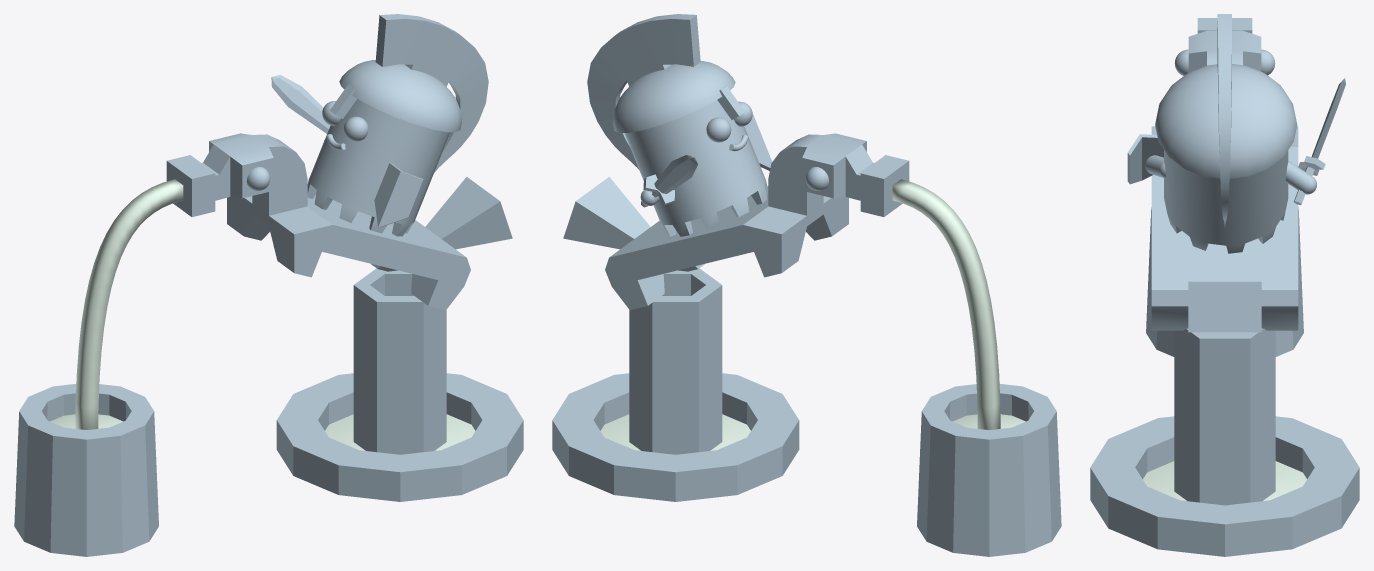
The model's file is fountain_cute.fbx.
3 renders of one model, left to right at view 1: azimuth 30°, elevation 25°; view 2: azimuth 150°, elevation 25°; view 3: azimuth 270°, elevation 25°, orthographic. The views are drawn at different scales.
Visible parts, largest first — view 1: mount, pPipe2, pPipe1, pCylinder27, gotchi3D_1, hair, pPlane35, helmet, shield, blade, pCylinder28; view 2: mount, pPipe2, pPipe1, pCylinder27, gotchi3D_1, hair, pPlane35, helmet, pCylinder28, blade, shield; view 3: pPipe1, mount, pCylinder27, helmet, gotchi3D_1, hair, pPipe2, pCylinder28, shield, arm_right, blade, sword (+1 smaller).
Boxes of the visible parts, x1=… form: mount: x1=166, y1=133, x2=512, y2=310; pPipe2: x1=14, y1=384, x2=158, y2=556; pPipe1: x1=276, y1=373, x2=523, y2=501; pCylinder27: x1=353, y1=268, x2=446, y2=454; gotchi3D_1: x1=307, y1=99, x2=450, y2=236; hair: x1=375, y1=14, x2=488, y2=172; pPlane35: x1=75, y1=179, x2=183, y2=429; helmet: x1=339, y1=60, x2=461, y2=132; shield: x1=374, y1=162, x2=424, y2=227; blade: x1=271, y1=75, x2=330, y2=133; pCylinder28: x1=325, y1=414, x2=475, y2=450; mount: x1=563, y1=133, x2=909, y2=310; pPipe2: x1=917, y1=384, x2=1061, y2=556; pPipe1: x1=552, y1=373, x2=799, y2=501; pCylinder27: x1=629, y1=268, x2=722, y2=454; gotchi3D_1: x1=624, y1=100, x2=768, y2=236; hair: x1=587, y1=14, x2=700, y2=169; pPlane35: x1=892, y1=179, x2=1000, y2=429; helmet: x1=613, y1=61, x2=735, y2=132; pCylinder28: x1=600, y1=414, x2=750, y2=450; blade: x1=654, y1=155, x2=697, y2=193; shield: x1=744, y1=114, x2=772, y2=170; pPipe1: x1=1090, y1=416, x2=1359, y2=556; mount: x1=1151, y1=18, x2=1298, y2=332; pCylinder27: x1=1174, y1=328, x2=1275, y2=505; helmet: x1=1155, y1=64, x2=1297, y2=178; gotchi3D_1: x1=1164, y1=150, x2=1288, y2=253; hair: x1=1217, y1=14, x2=1231, y2=230; pPipe2: x1=1146, y1=207, x2=1303, y2=356; pCylinder28: x1=1143, y1=461, x2=1306, y2=500; shield: x1=1127, y1=134, x2=1163, y2=184; arm_right: x1=1286, y1=161, x2=1316, y2=194; blade: x1=1311, y1=78, x2=1345, y2=158; sword: x1=1294, y1=156, x2=1325, y2=205.
Bounding box in the file's own units: 10.85 × 9.37 × 4.8.
